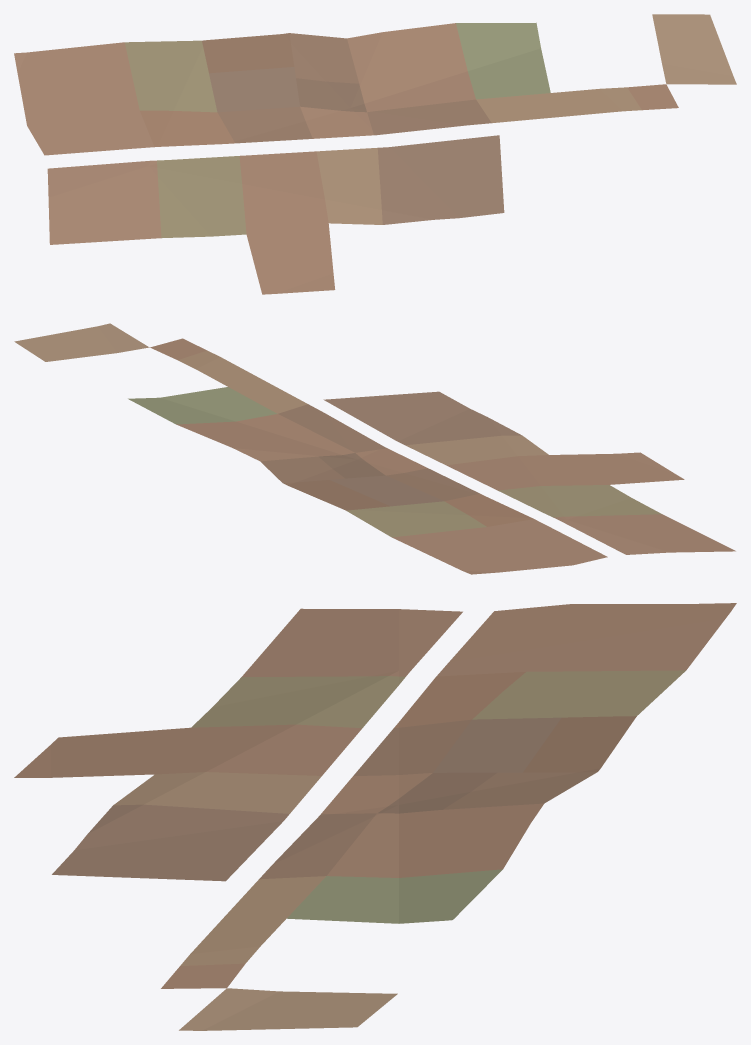
Rendered from farm_2_32_soil.glb.
3 views of the same model, one above another, from view 1: azimuth 30°, elevation 25°; view 2: azimuth 150°, elevation 25°; view 3: azimuth 270°, elevation 25° (orthographic). The views are drawn at different scales.
Visible parts, largest first — view 1: geometry_0; view 2: geometry_0; view 3: geometry_0.
Boxes of the visible parts, box(x1,y1,x2,y2) form: geometry_0: box(14, 14, 736, 294); geometry_0: box(14, 323, 735, 574); geometry_0: box(14, 603, 736, 1030).
Bounding box in the file's own units: 269 × 30.43 × 166.
